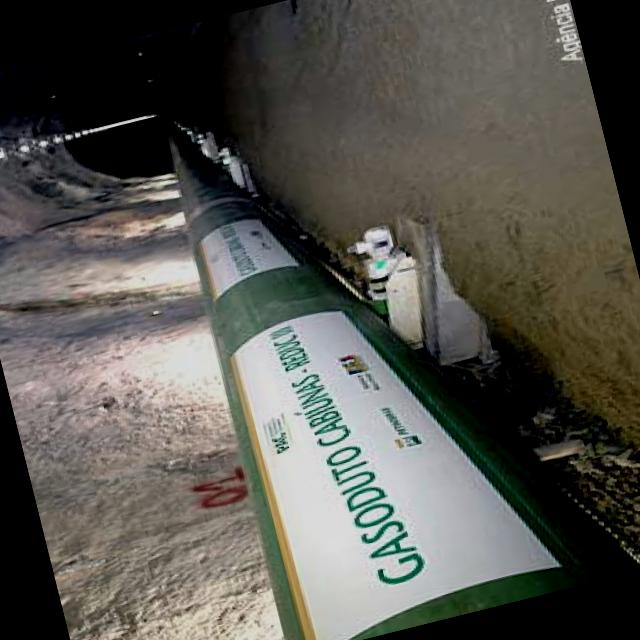gas: (168, 134, 614, 640)
